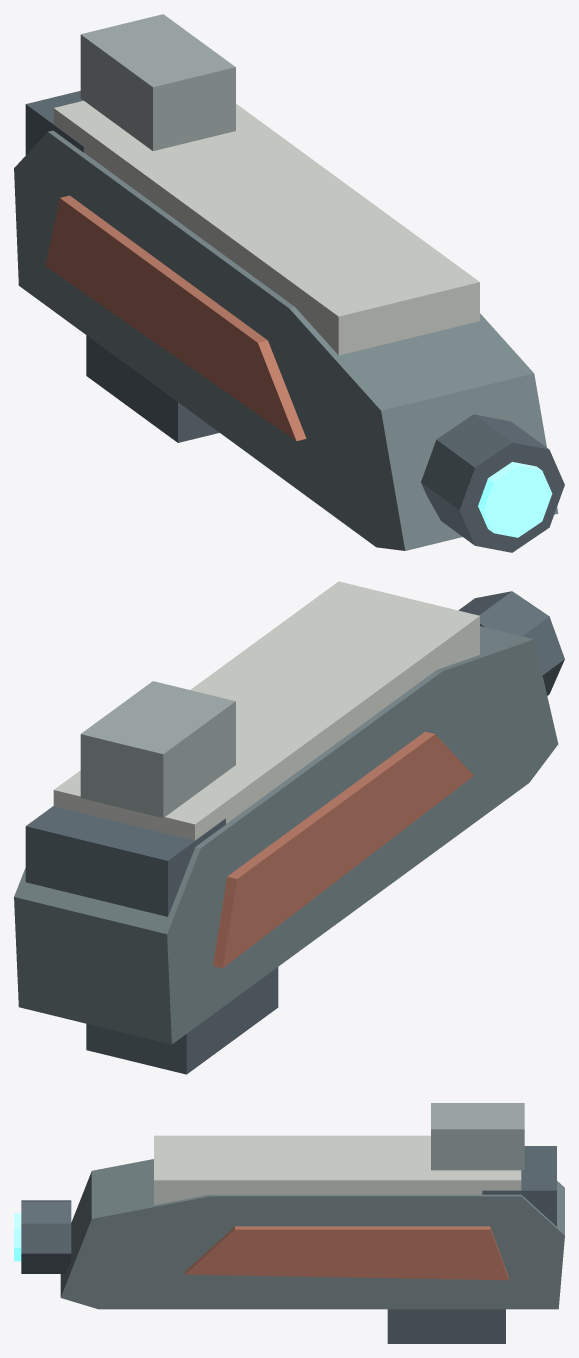
The model's file is gun.glb.
The picture shows the model from 3 angles, top to bottom: view 1: azimuth 30°, elevation 25°; view 2: azimuth 150°, elevation 25°; view 3: azimuth 270°, elevation 25°; orthographic projection. The views are drawn at different scales.
Visible parts, largest first — view 1: Arma simples · corpo, Arma simples · cobertura clara, Arma simples · lateral de tijolo -1, Arma simples · acoplamento superior, Arma simples · bocal, Arma simples · base inferior, Arma simples · luz frontal, Arma simples · bloco traseiro; view 2: Arma simples · corpo, Arma simples · cobertura clara, Arma simples · lateral de tijolo -1, Arma simples · acoplamento superior, Arma simples · bloco traseiro, Arma simples · base inferior, Arma simples · bocal; view 3: Arma simples · corpo, Arma simples · cobertura clara, Arma simples · lateral de tijolo 1, Arma simples · acoplamento superior, Arma simples · base inferior, Arma simples · bocal, Arma simples · bloco traseiro, Arma simples · luz frontal.
Part boxes in pixels (bbox=[...]): Arma simples · corpo: bbox=[14, 130, 558, 550]; Arma simples · cobertura clara: bbox=[53, 100, 479, 355]; Arma simples · lateral de tijolo -1: bbox=[45, 195, 306, 441]; Arma simples · acoplamento superior: bbox=[80, 14, 235, 150]; Arma simples · bocal: bbox=[421, 414, 564, 552]; Arma simples · base inferior: bbox=[86, 335, 219, 442]; Arma simples · luz frontal: bbox=[478, 462, 552, 537]; Arma simples · bloco traseiro: bbox=[25, 91, 83, 155]; Arma simples · corpo: bbox=[14, 626, 558, 1044]; Arma simples · cobertura clara: bbox=[53, 581, 479, 840]; Arma simples · lateral de tijolo -1: bbox=[212, 731, 473, 968]; Arma simples · acoplamento superior: bbox=[80, 681, 235, 817]; Arma simples · bloco traseiro: bbox=[25, 806, 225, 916]; Arma simples · base inferior: bbox=[86, 967, 278, 1074]; Arma simples · bocal: bbox=[458, 591, 564, 695]; Arma simples · corpo: bbox=[60, 1159, 564, 1309]; Arma simples · cobertura clara: bbox=[154, 1135, 521, 1205]; Arma simples · lateral de tijolo 1: bbox=[185, 1226, 508, 1280]; Arma simples · acoplamento superior: bbox=[431, 1103, 524, 1170]; Arma simples · base inferior: bbox=[387, 1309, 505, 1343]; Arma simples · bocal: bbox=[21, 1200, 71, 1273]; Arma simples · bloco traseiro: bbox=[482, 1146, 556, 1226]; Arma simples · luz frontal: bbox=[14, 1213, 21, 1261].
Bounding box in the file's own units: 0.212 × 0.3755 × 0.885.
